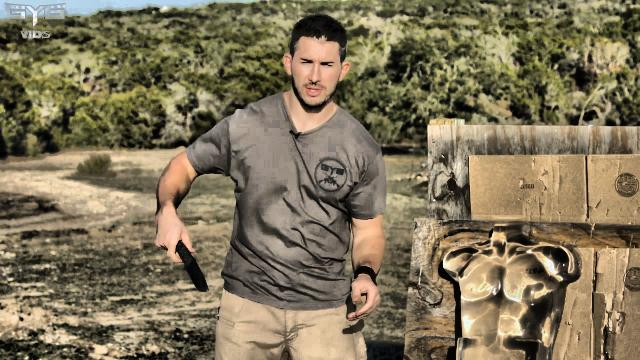knife: (153, 226, 213, 296)
